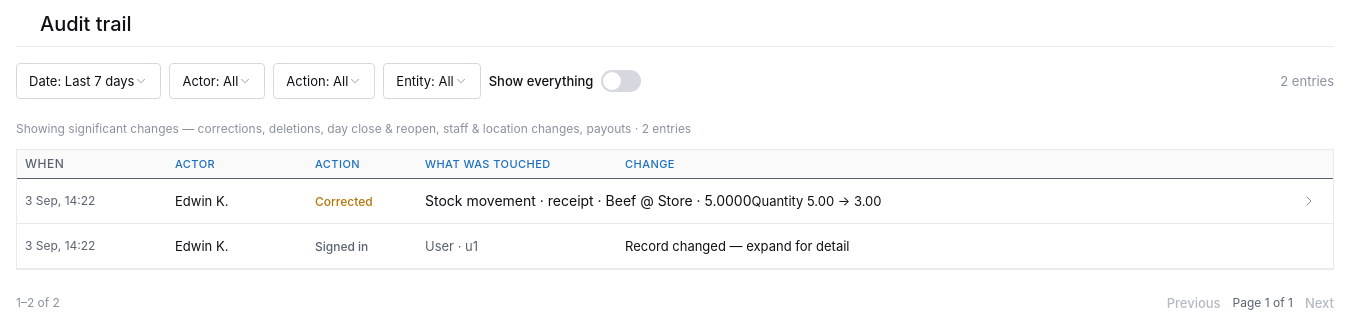
Test: /admin/audit-trail › the Show everything toggle drops the significant filter and shows login rows
Click the switch named "Show everything".
click(621, 81)  # box left=601, top=70, right=641, bottom=92
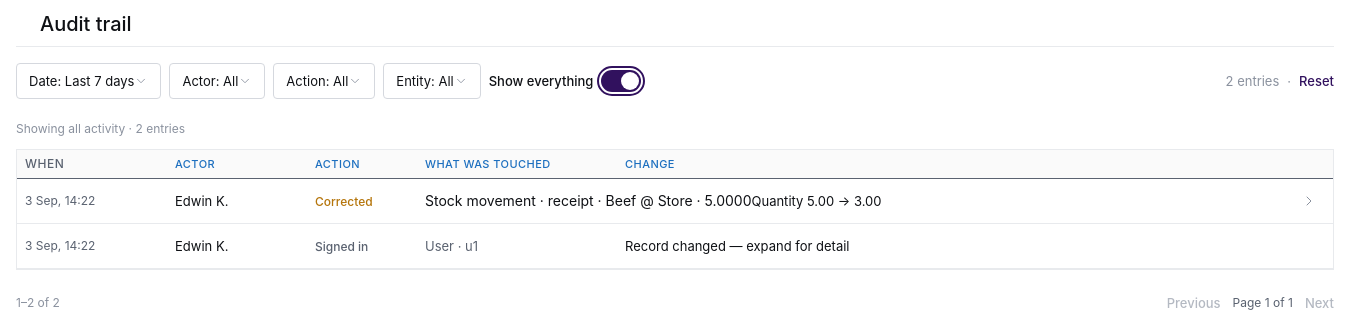
Check: the text "Signed in" is shown, box left=315, top=239, right=368, bottom=254
Check: the text "Showing all activity · 2 entries" is shown, box left=16, top=121, right=185, bottom=136
